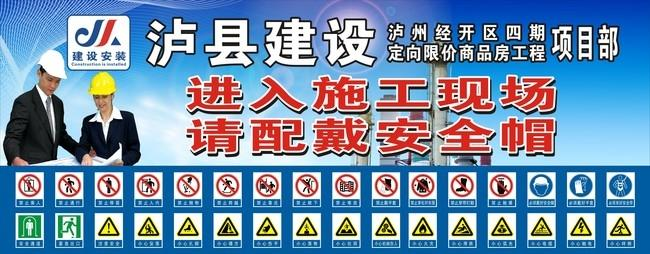helmet: (35, 49, 68, 82), (87, 70, 120, 100)
no_wear: (13, 98, 61, 163), (82, 113, 139, 167)
